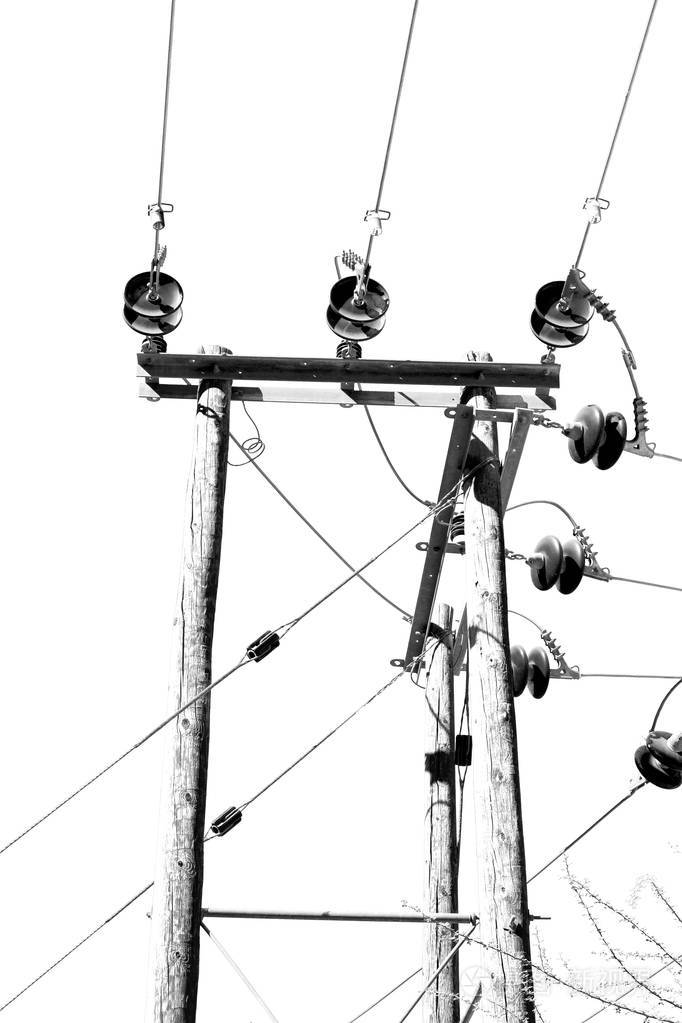insulator: (117, 269, 184, 337), (530, 281, 593, 351), (564, 407, 628, 472), (329, 278, 388, 342), (527, 541, 586, 597), (505, 639, 549, 703), (637, 736, 682, 784)
